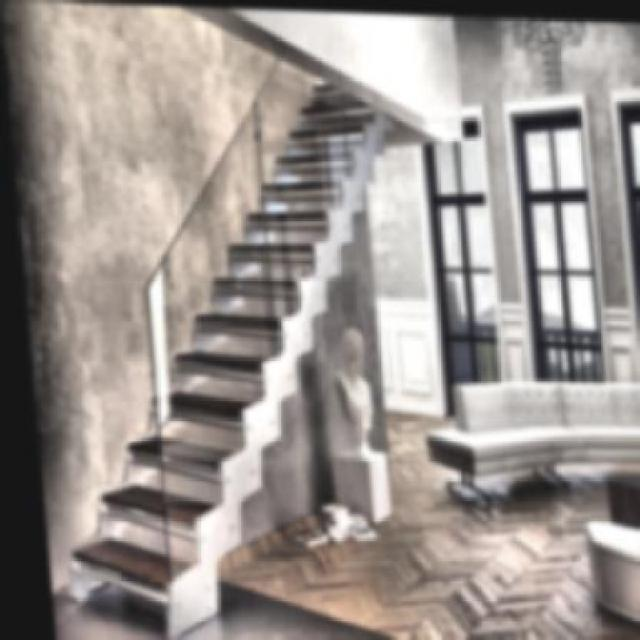stair: (37, 272, 277, 638)
